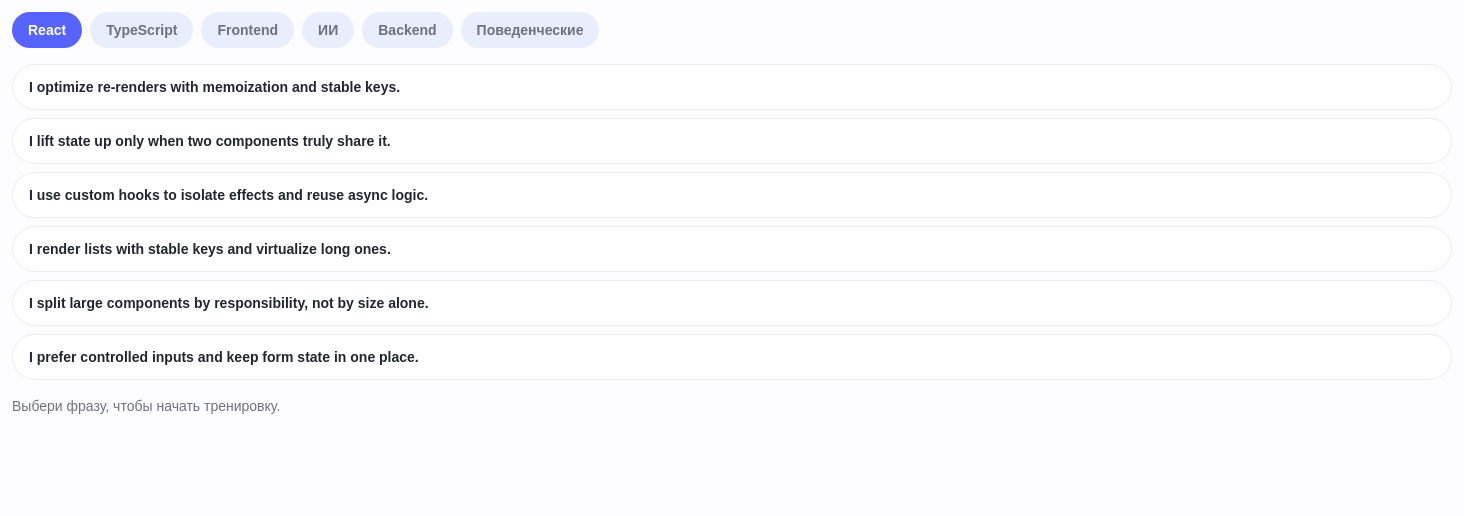
Scenario: PhrasePractice › shows the record control with the phrase as the target after selection
Click the button "I optimize re-renders with memoization and stable keys.".
click(215, 87)  # box [12,64,1452,110]
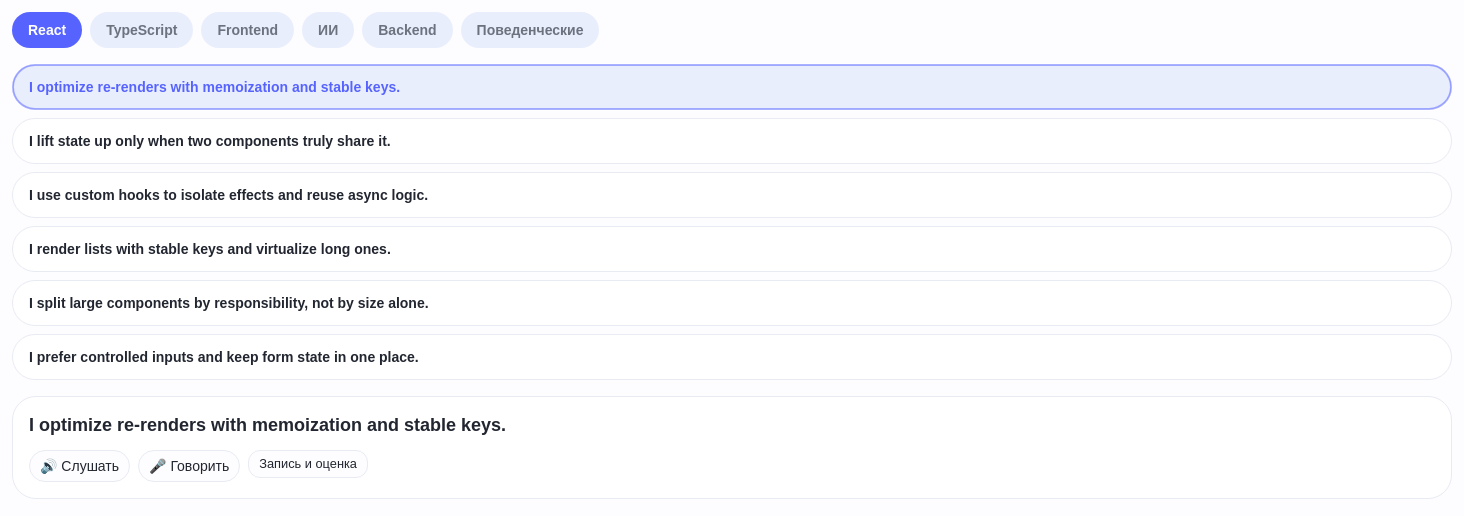
Expected: the button "Запись и оценка" is shown, [248,450,368,478]
Expected: the button "🔊 Слушать" is shown, [29,450,130,482]
